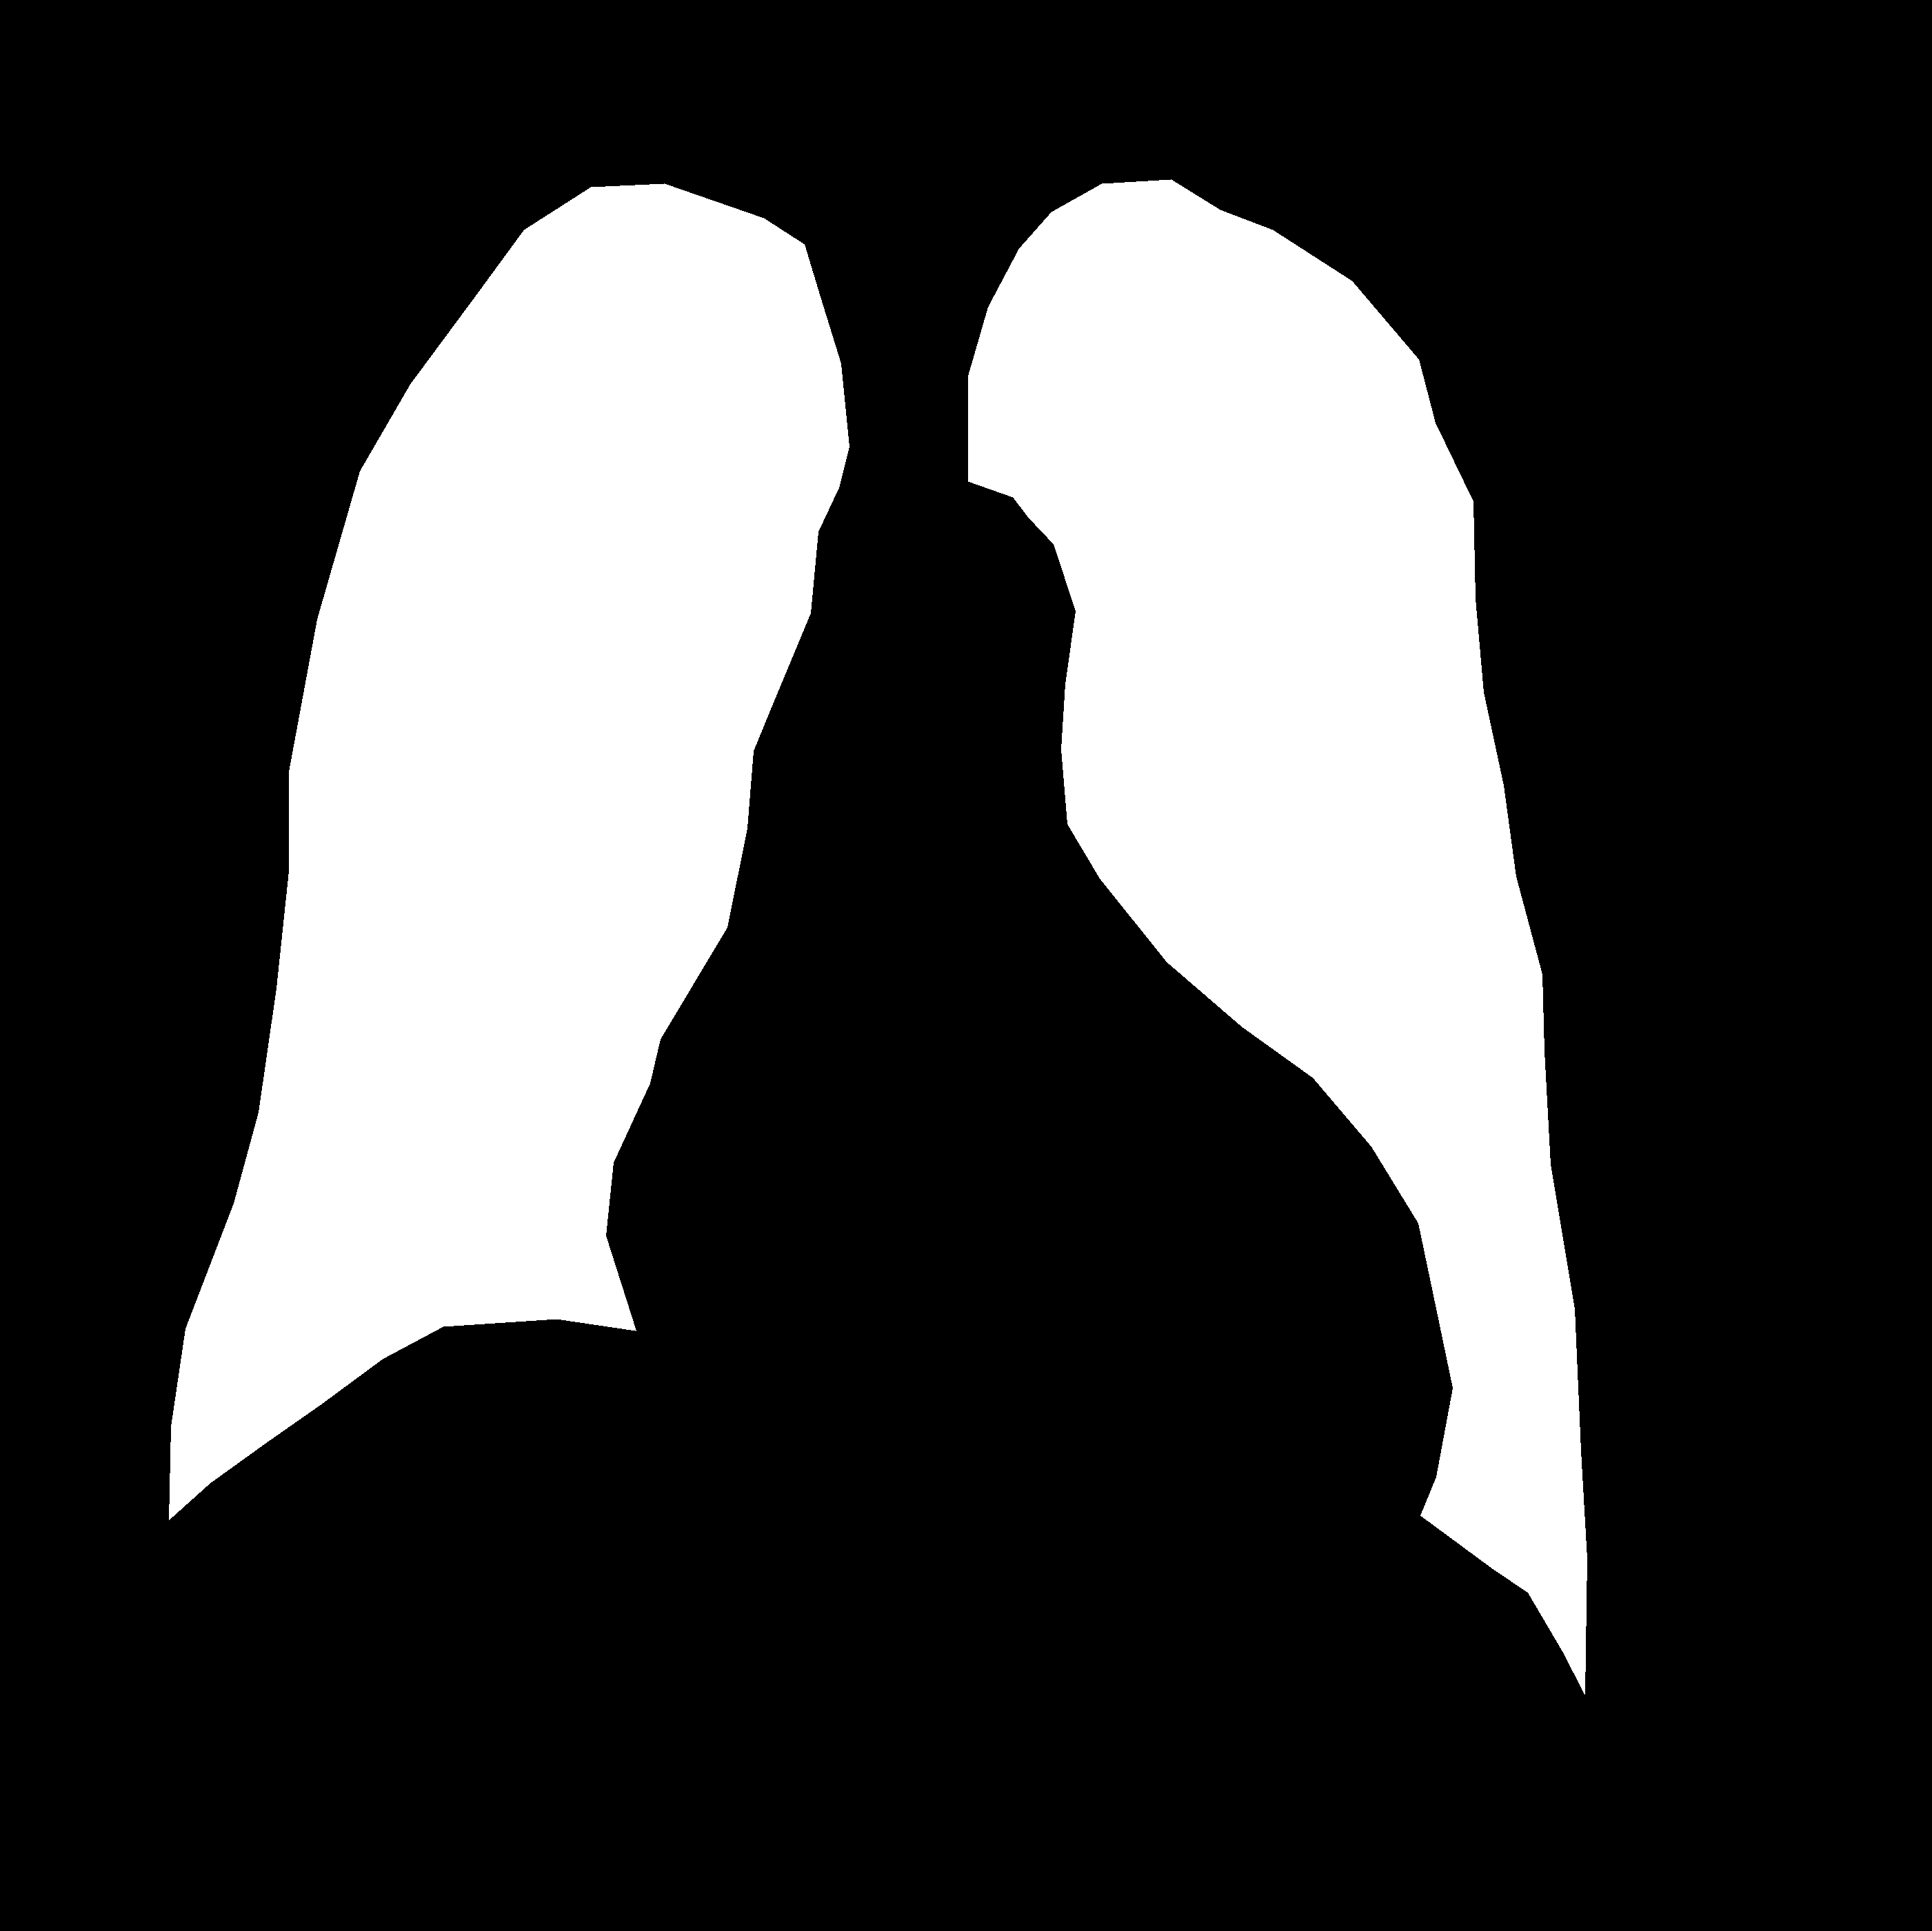heart: (605, 759, 1449, 1512)
left_lung: (168, 184, 849, 1519)
right_lung: (968, 179, 1587, 1694)
